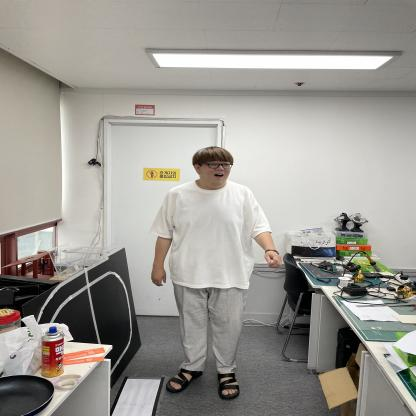normal: (154, 145, 282, 399)
